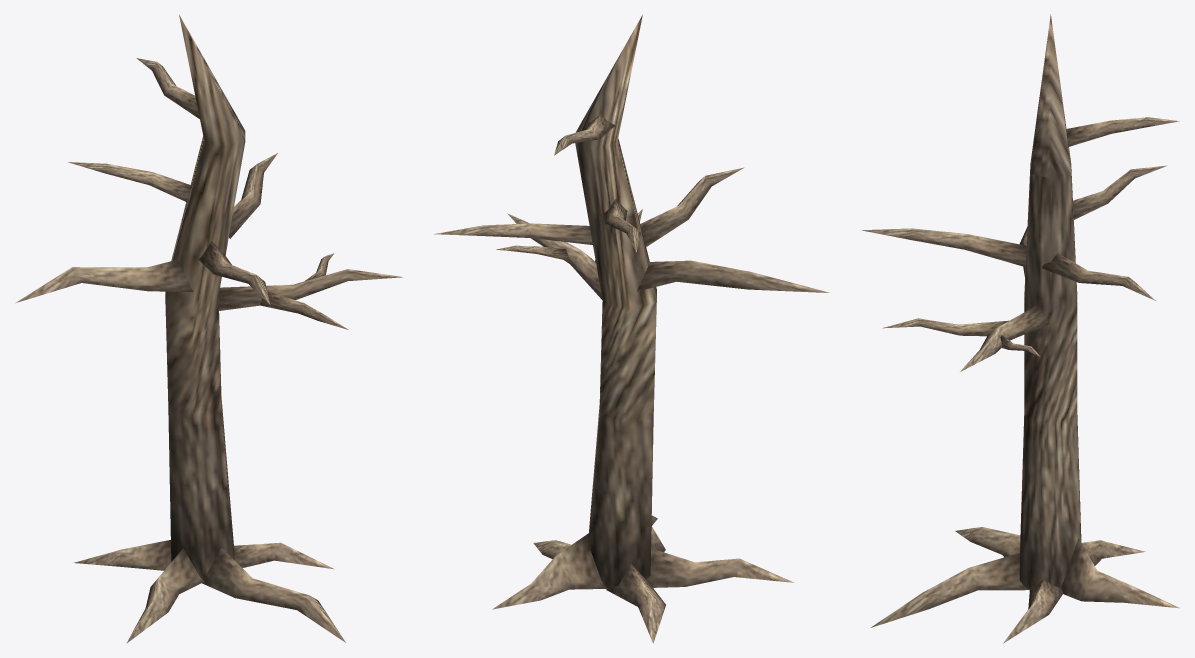
3 views of the same model, side by side, from view 1: azimuth 30°, elevation 25°; view 2: azimuth 150°, elevation 25°; view 3: azimuth 270°, elevation 25° (orthographic). The views are drawn at different scales.
Visible parts, largest first — view 1: SMDImport; view 2: SMDImport; view 3: SMDImport.
Part boxes in pixels (x1,y1,x2,y2): SMDImport: [15, 14, 403, 643]; SMDImport: [434, 14, 829, 643]; SMDImport: [862, 14, 1179, 643].
Bounding box in the file's own units: 326 × 511 × 257.
